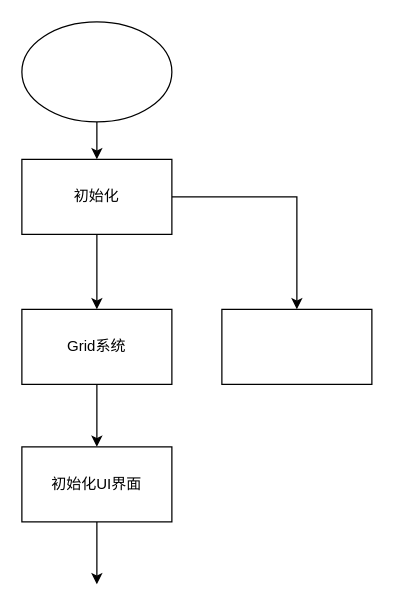
Some shapes in this 394 by 616 pixel diagram are drawn without their labels. The shapes that lost their labels are listed below. From the top down, each one's box as (x1, y1, x2, y2) in pixels, then its label:
(21, 21, 172, 122): Begin
(221, 308, 372, 384): PlayerActions
